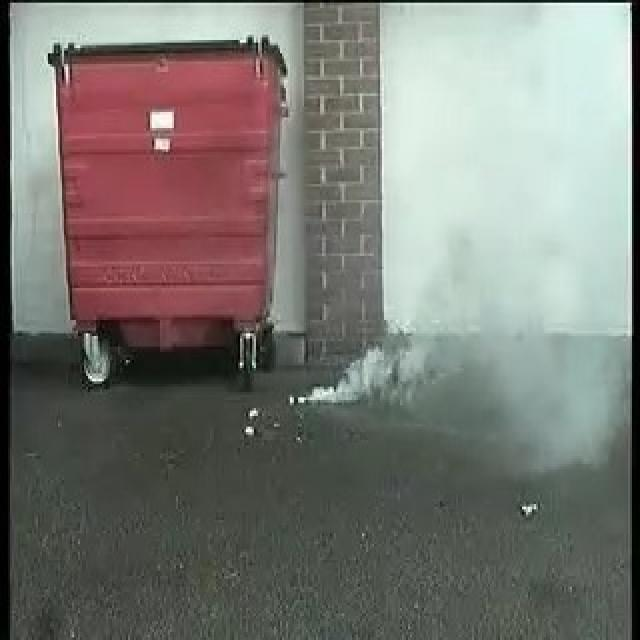smoke: (307, 326, 457, 416)
